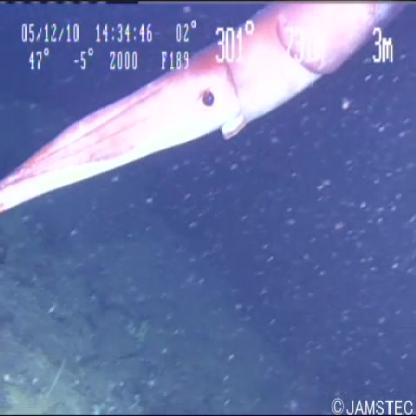Bio: (1, 1, 406, 214)
